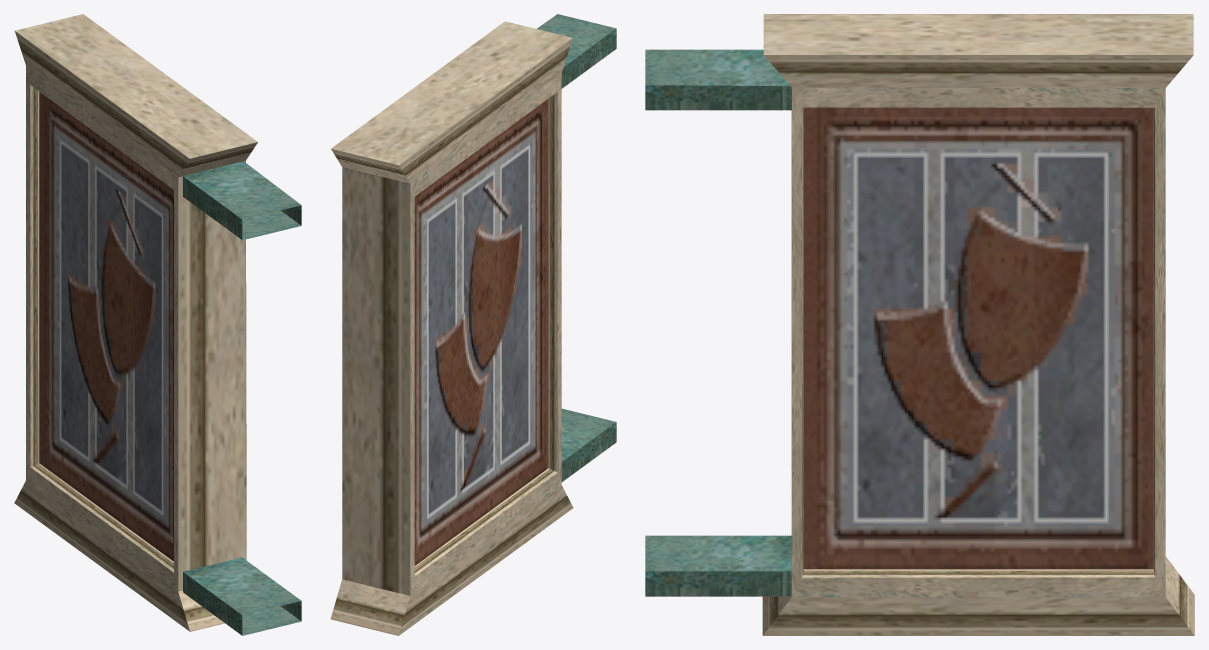
Rendered from thm_sign_nboo_hanging_l0.fbx.
The picture shows the model from 3 angles, left to right: view 1: azimuth 30°, elevation 25°; view 2: azimuth 150°, elevation 25°; view 3: azimuth 270°, elevation 25°; orthographic projection. The views are drawn at different scales.
Parts seen in each view (by area): view 1: mesh_node; view 2: mesh_node; view 3: mesh_node.
Boxes of the visible parts, x1,y1,x2,y2 form: mesh_node: (14, 14, 301, 635); mesh_node: (330, 14, 616, 635); mesh_node: (645, 14, 1194, 635).
Bounding box in the file's own units: 0.26 × 1.71 × 1.47.
